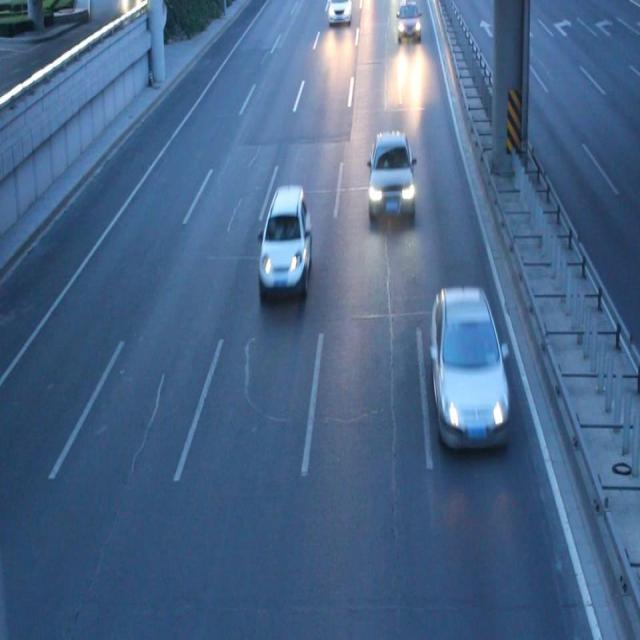car: (428, 287, 510, 451), (257, 186, 310, 294), (366, 132, 416, 222), (395, 1, 420, 44), (326, 1, 352, 24)
